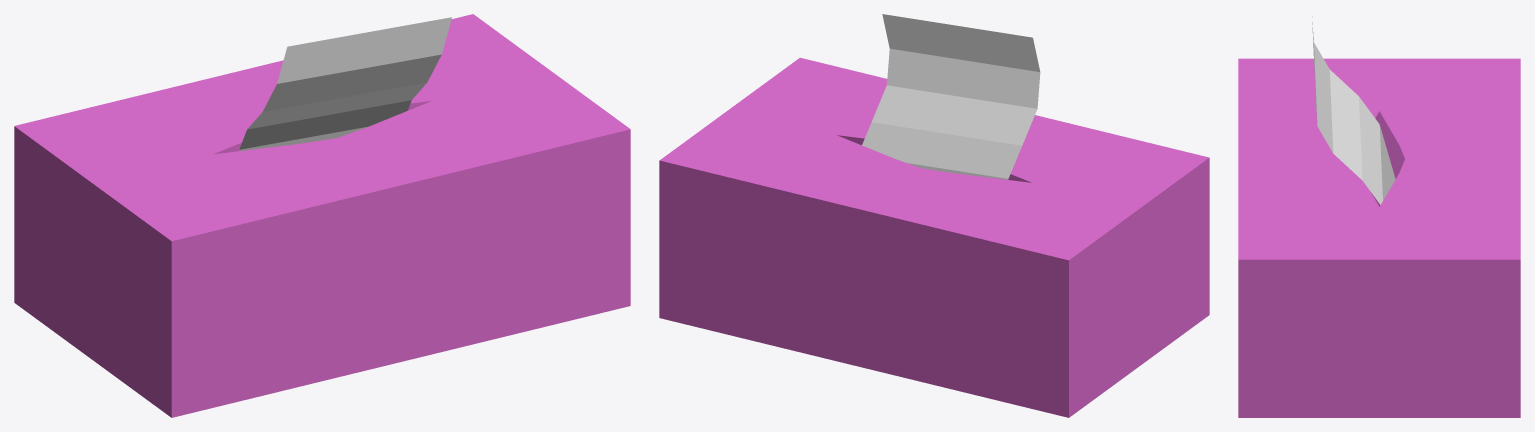
File: TissueBox.fbx
3 renders of one model, left to right at view 1: azimuth 30°, elevation 25°; view 2: azimuth 150°, elevation 25°; view 3: azimuth 270°, elevation 25°, orthographic. The views are drawn at different scales.
Visible parts, largest first — view 1: Cube.001, Plane; view 2: Cube.001, Plane; view 3: Cube.001, Plane.
Boxes of the visible parts, x1,y1,x2,y2 form: Cube.001: (14,14,630,417); Plane: (239,17,451,151); Cube.001: (659,57,1209,417); Plane: (862,14,1040,179); Cube.001: (1238,58,1520,417); Plane: (1312,16,1395,204).
Size of the model in its own units: 14.85 by 9.37 by 8.83.
